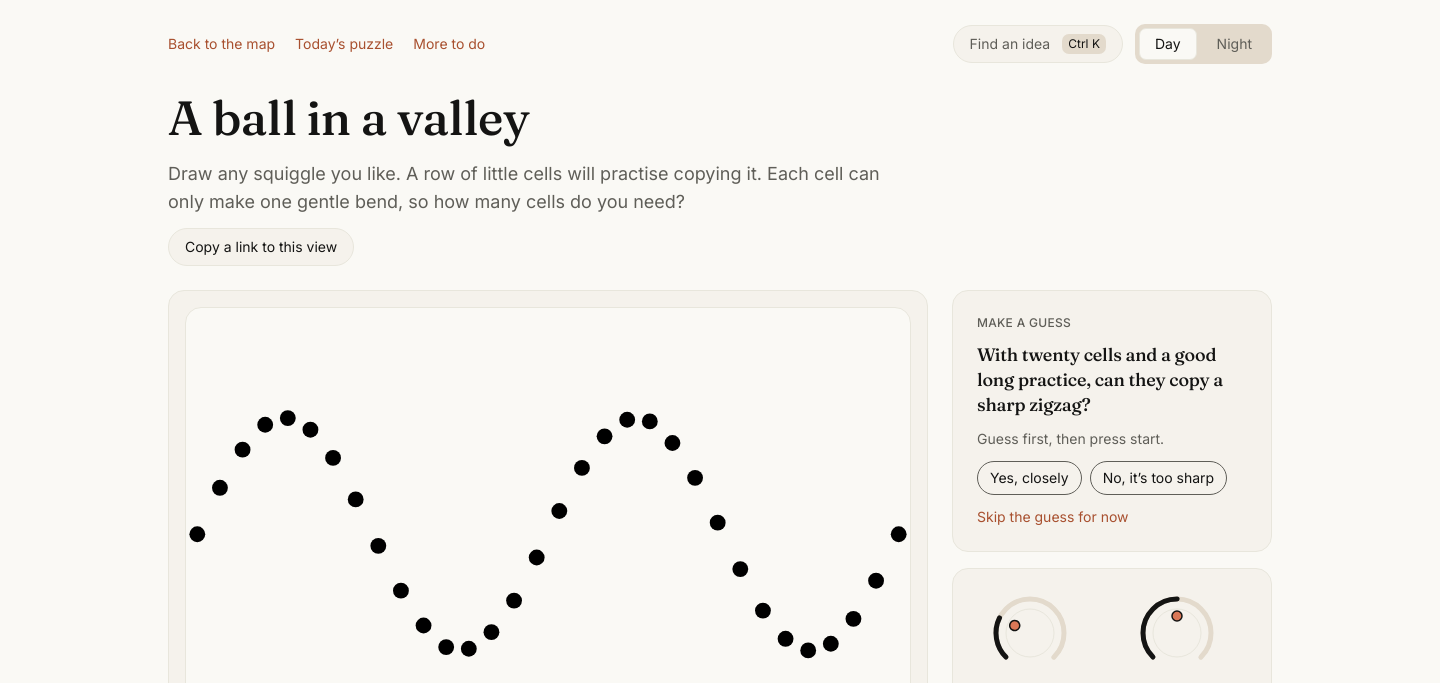
it: it can draw anything: in the lesson › earns the star once too few cells can't follow the squiggle
This screenshot has width=1440, height=683.
Click the button "Skip the guess for now": (1053, 517) [977,507,1128,527]
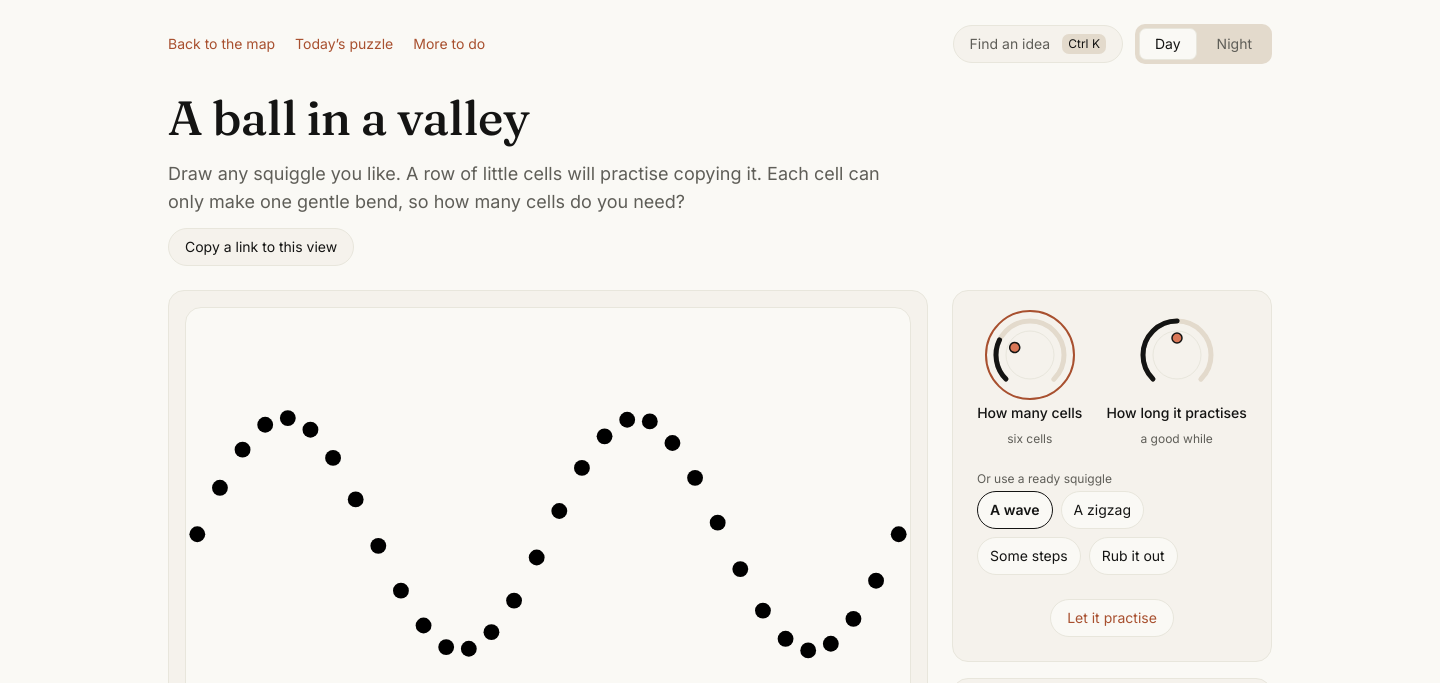
Press Home
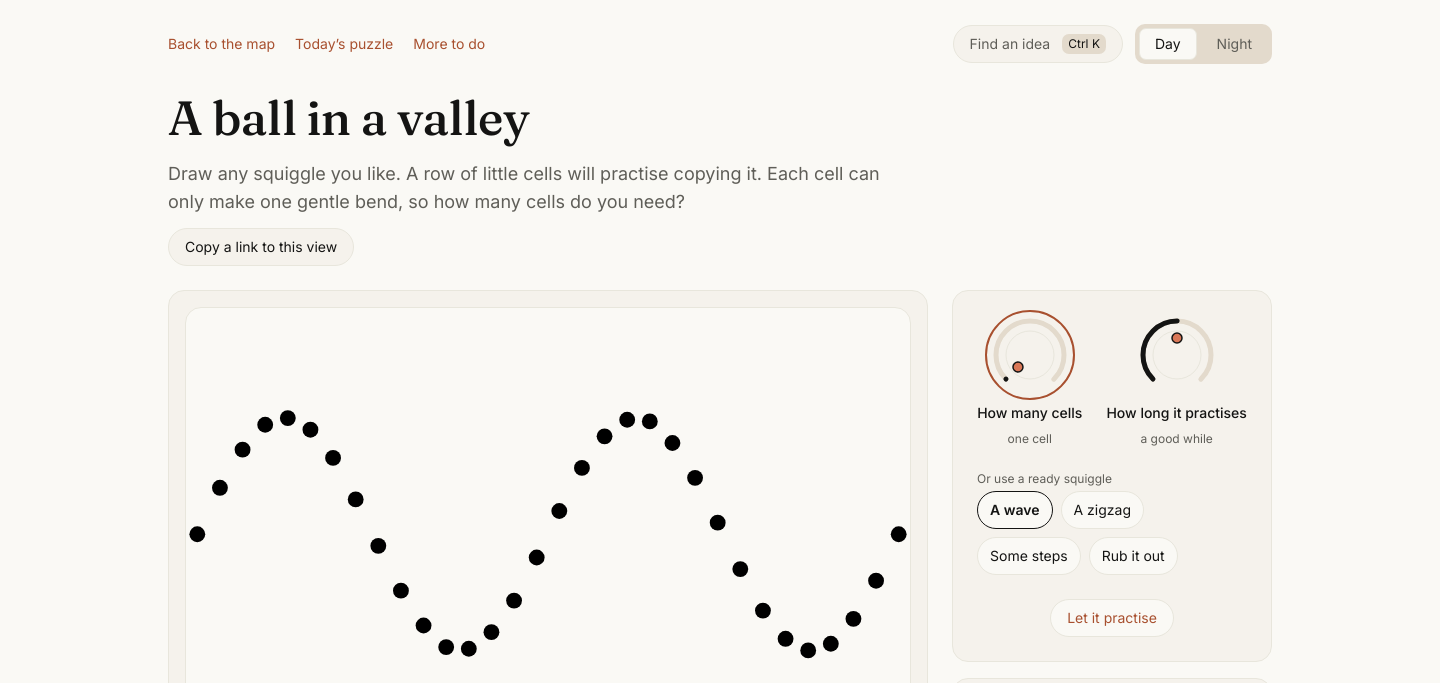
Click the button "Let it practise": (1112, 618) [1050,599,1174,637]
(page scrolled)
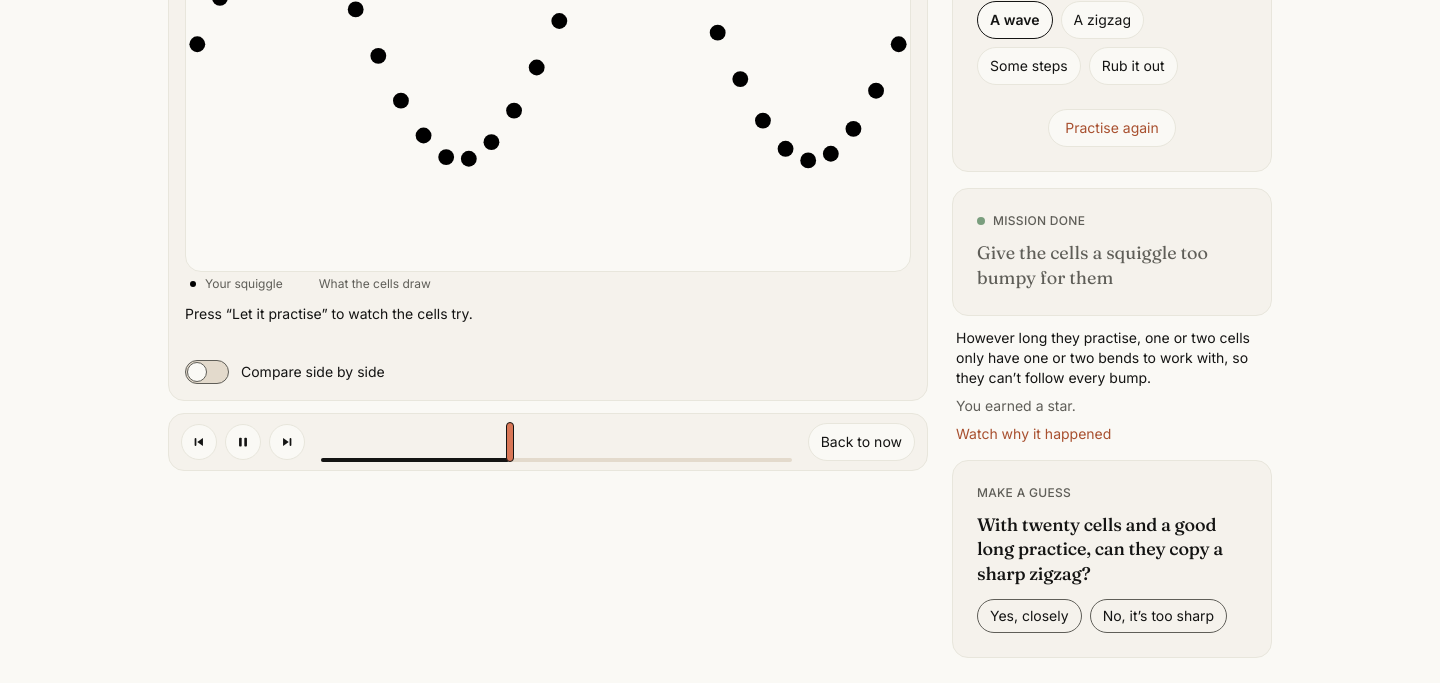
expect the text "You earned a star." is shown: met, box [956,396,1076,416]
